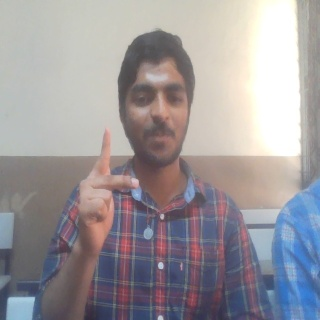Face: (116, 28, 197, 169)
Okay: (74, 126, 140, 252)
